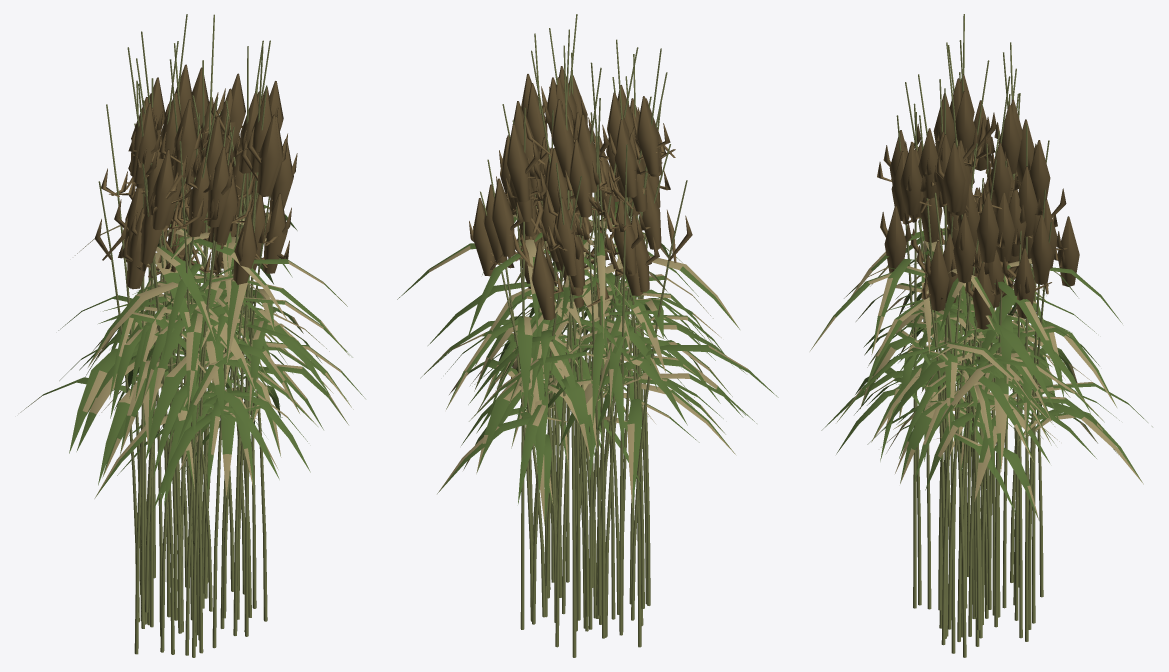
The model's file is vegetation_07.glb.
3 views of the same model, side by side, from view 1: azimuth 30°, elevation 25°; view 2: azimuth 150°, elevation 25°; view 3: azimuth 270°, elevation 25° (orthographic). The views are drawn at different scales.
Parts seen in each view (by area): view 1: prototype_063, prototype_057, prototype_059, prototype_058, prototype_060, prototype_062, prototype_061, prototype_056; view 2: prototype_057, prototype_061, prototype_062, prototype_058, prototype_063, prototype_059, prototype_056, prototype_060; view 3: prototype_063, prototype_059, prototype_061, prototype_062, prototype_058, prototype_057, prototype_060, prototype_056.
Part boxes in pixels (x1,y1,x2,y2): prototype_063: (88, 46, 329, 657); prototype_057: (69, 41, 307, 654); prototype_059: (125, 58, 347, 633); prototype_058: (59, 14, 365, 653); prototype_060: (77, 41, 279, 648); prototype_062: (20, 14, 352, 636); prototype_061: (85, 31, 353, 646); prototype_056: (101, 40, 297, 644); prototype_057: (437, 39, 778, 647); prototype_061: (446, 52, 732, 647); prototype_062: (468, 33, 745, 657); prototype_058: (476, 29, 699, 628); prototype_063: (420, 14, 739, 635); prototype_059: (445, 76, 745, 629); prototype_056: (425, 28, 734, 631); prototype_060: (397, 28, 743, 631); prototype_063: (864, 74, 1119, 657); prototype_059: (855, 68, 1070, 641); prototype_061: (837, 42, 1122, 641); prototype_062: (836, 42, 1096, 646); prototype_058: (810, 60, 1152, 653); prototype_057: (867, 14, 1143, 617); prototype_060: (821, 89, 1116, 624); prototype_056: (850, 88, 1116, 636).
Bounding box in the file's own units: 1.73 × 3.26 × 1.74.
